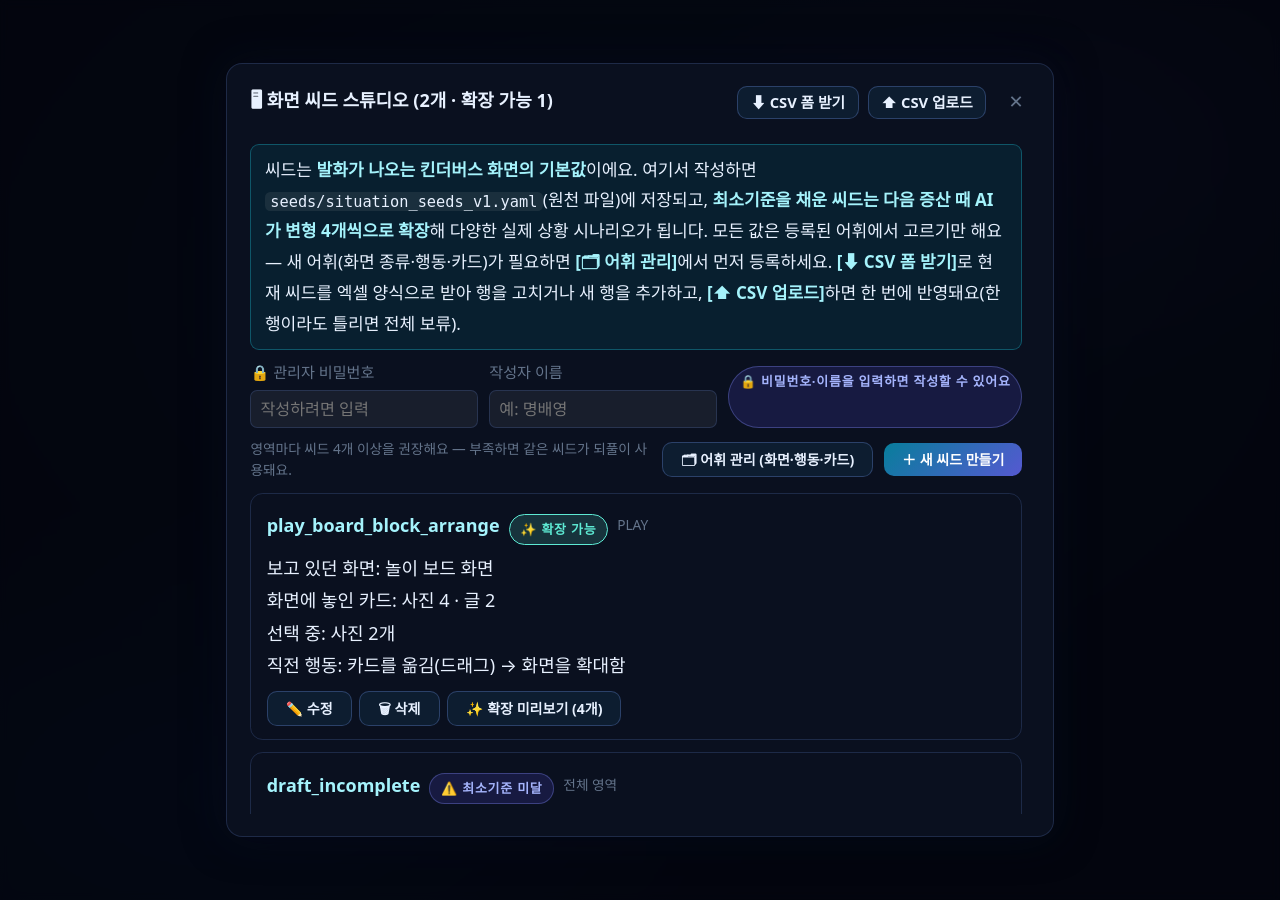
Test: SituationSeedPanel › 확장 미리보기: 변형이 그려지고 "저장되지 않았어요" 정직 캡션이 보인다
Expected: the text "play_board_block_arrange" is shown, top-left (267, 509), bottom-right (500, 542)
Type "2341" into the password field with placeholder "작성하려면 입력".
click(364, 409); type("2341")  # box top-left (250, 390), bottom-right (478, 428)
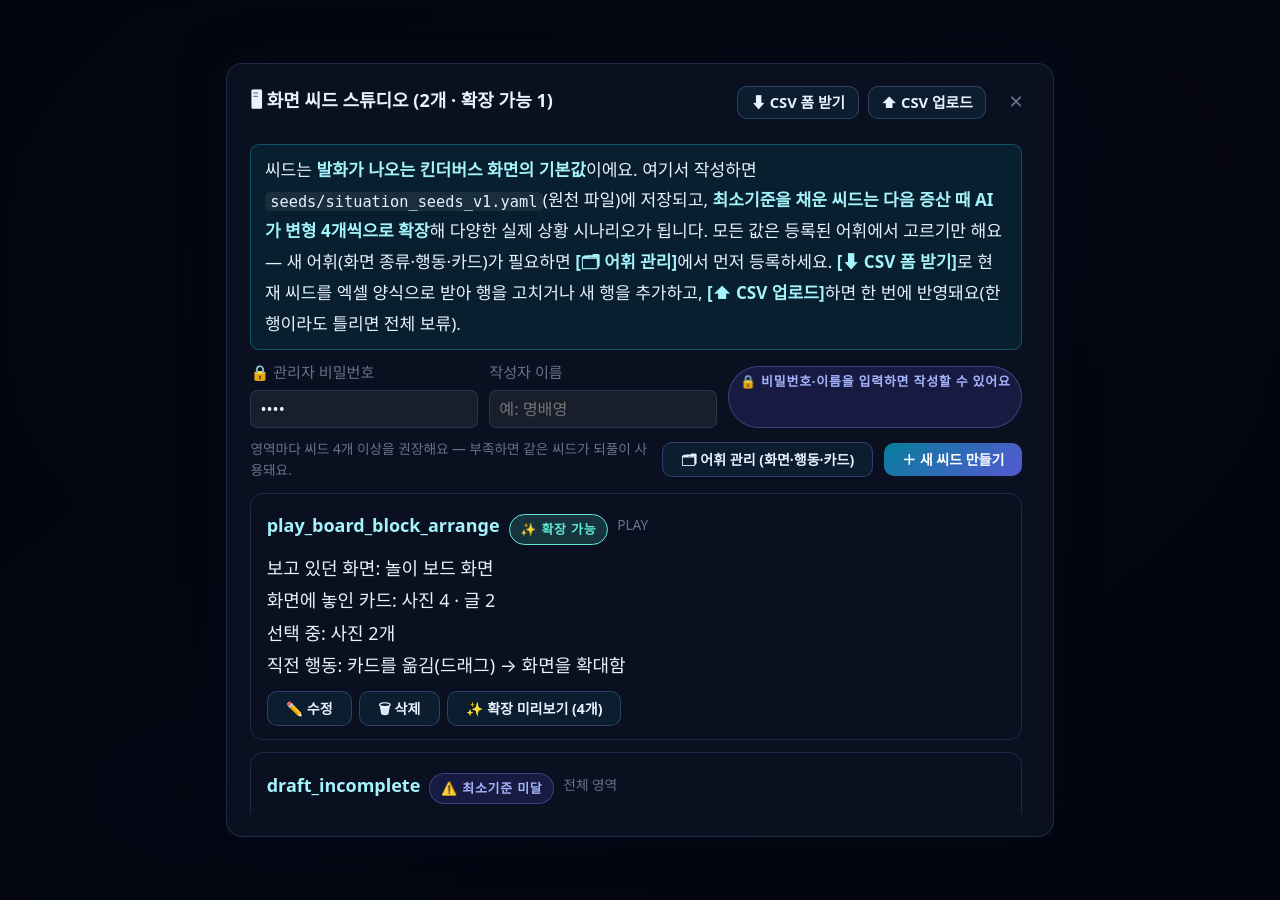
Type "명배영" into the field with placeholder "예: 명배영".
click(603, 409); type("명배영")  # box top-left (489, 390), bottom-right (717, 428)
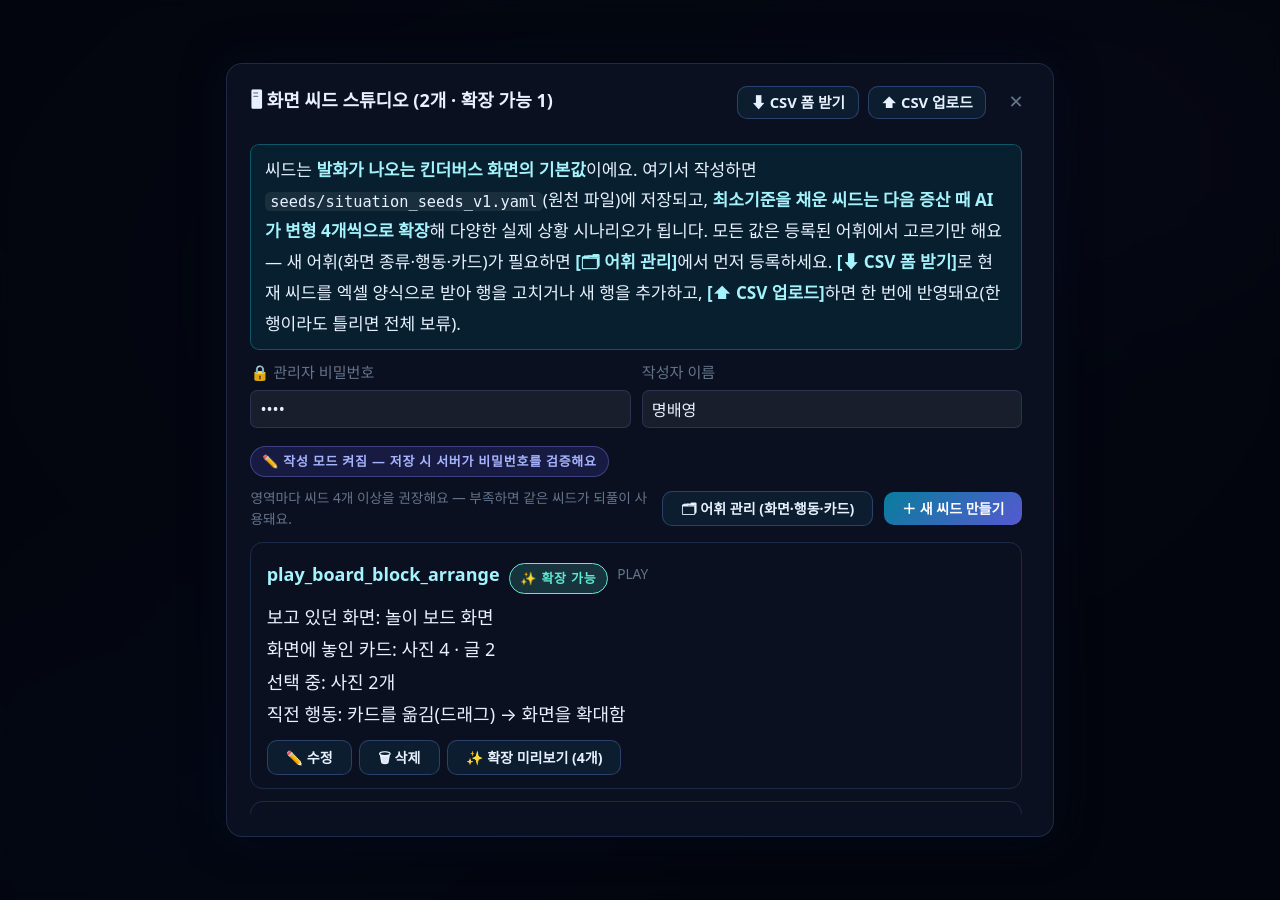
Click the button "✨ 확장 미리보기 (4개)".
click(534, 758)  # box top-left (447, 740), bottom-right (621, 775)
(page scrolled)
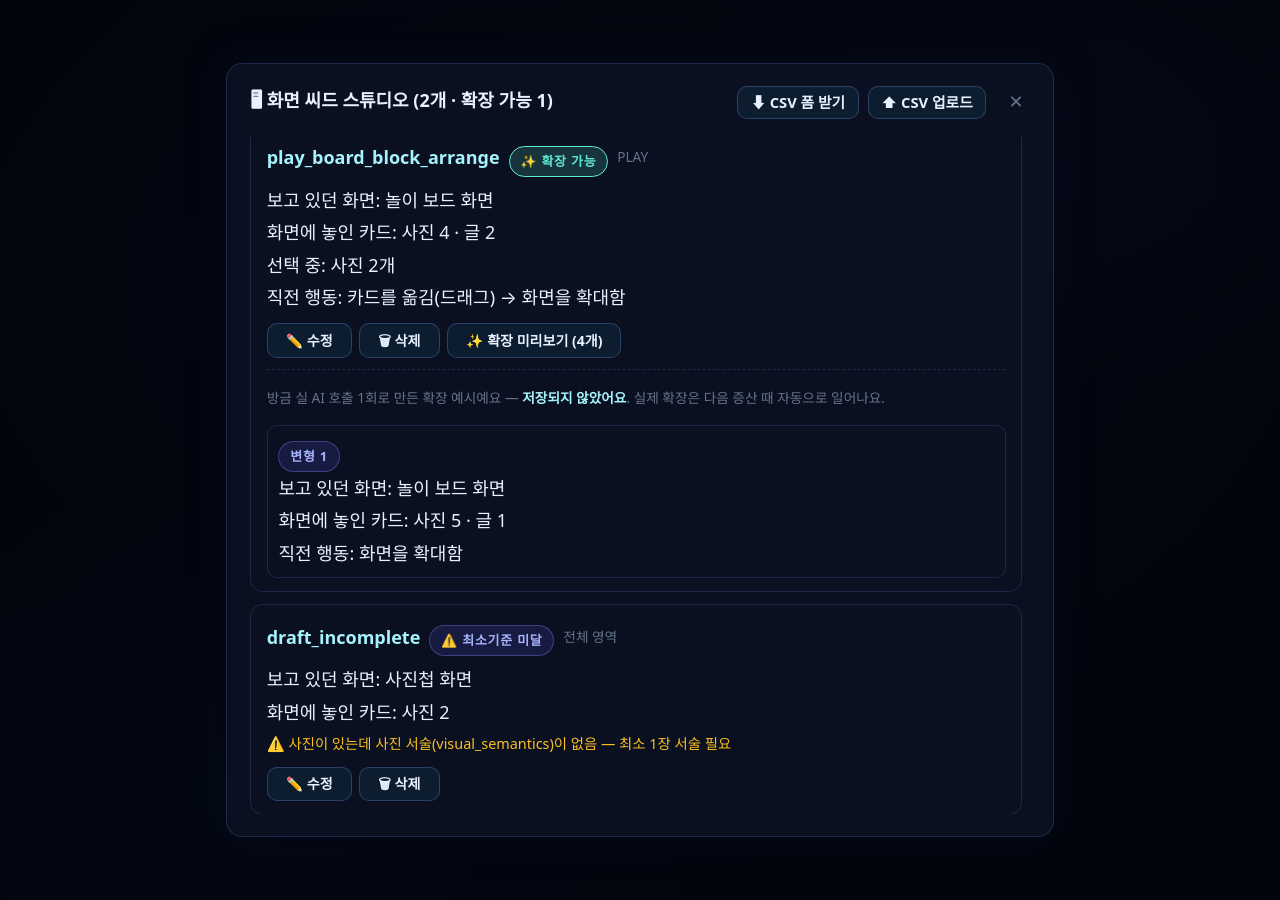
Now the text "변형 1" is shown, box top-left (278, 441), bottom-right (340, 472)
Now the text "저장되지 않았어요" is shown, box top-left (522, 388), bottom-right (626, 407)
Now the text "직전 행동: 화면을 확대함" is shown, box top-left (278, 541), bottom-right (463, 565)
